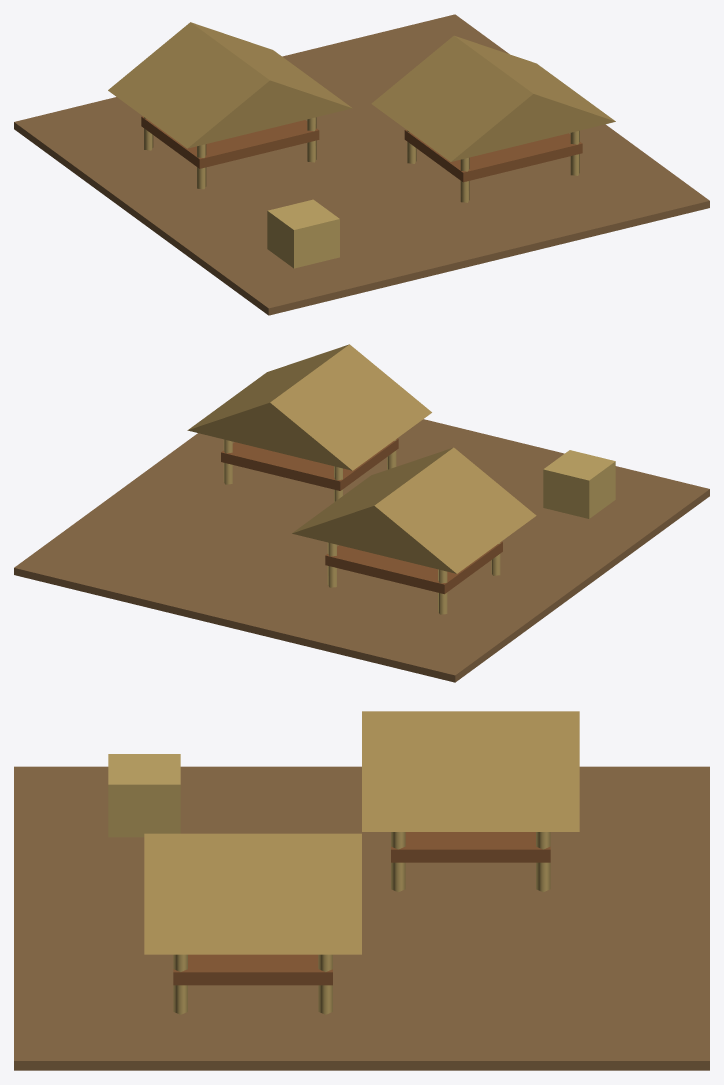
File: zone_C_d1_e1.glb
3 views of the same model, one above another, from view 1: azimuth 30°, elevation 25°; view 2: azimuth 150°, elevation 25°; view 3: azimuth 270°, elevation 25° (orthographic). The views are drawn at different scales.
Parts seen in each view (by area): view 1: zone_C_d1_e1; view 2: zone_C_d1_e1; view 3: zone_C_d1_e1.
Part boxes in pixels (left/top/right/bottom): zone_C_d1_e1: left=14, top=14, right=709, bottom=315; zone_C_d1_e1: left=14, top=344, right=709, bottom=682; zone_C_d1_e1: left=14, top=711, right=709, bottom=1070.
Bounding box in the file's own units: 0.96 × 0.23 × 0.96.
